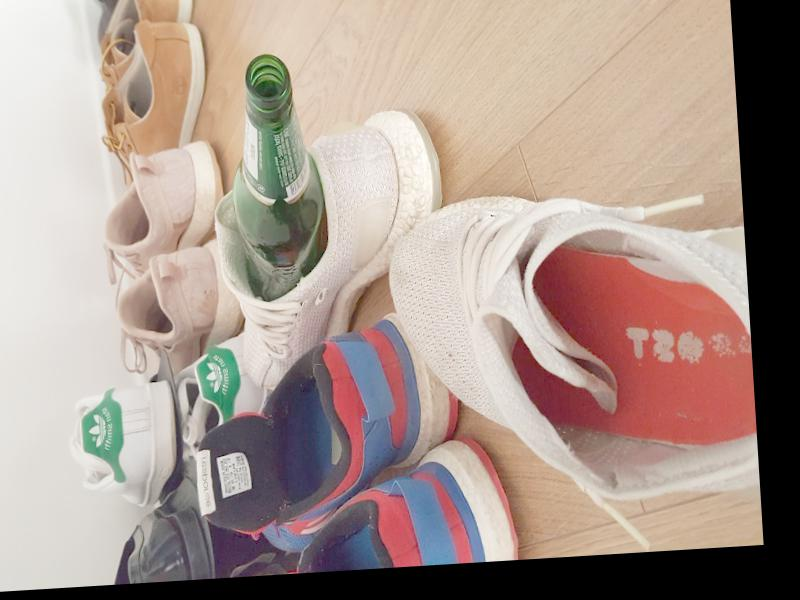Beer: (226, 51, 330, 302)
